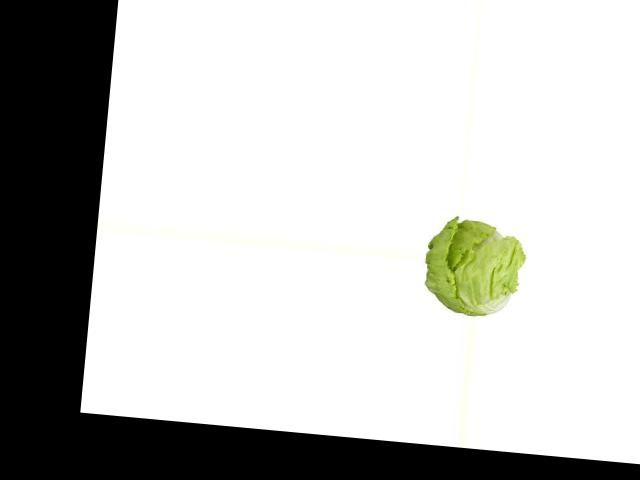lettuce: (421, 215, 525, 323)
